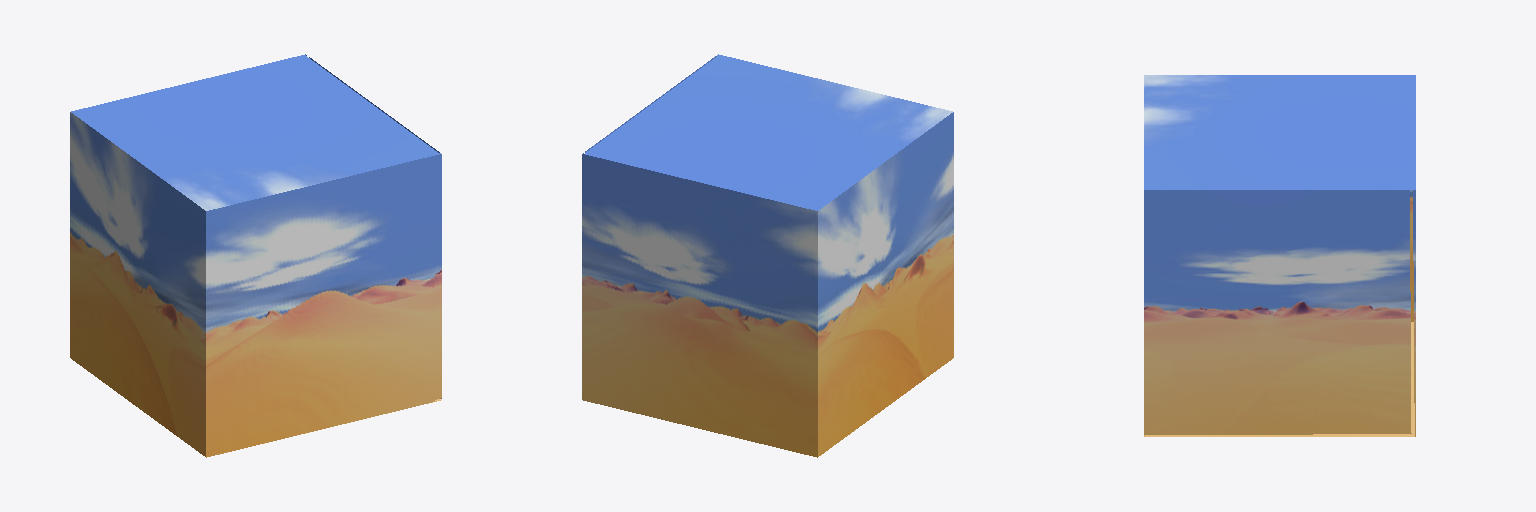
3 renders of one model, left to right at view 1: azimuth 30°, elevation 25°; view 2: azimuth 150°, elevation 25°; view 3: azimuth 270°, elevation 25°, orthographic.
Size of the model in its own units: 345 by 345 by 345.
1 materials, 1 textured.